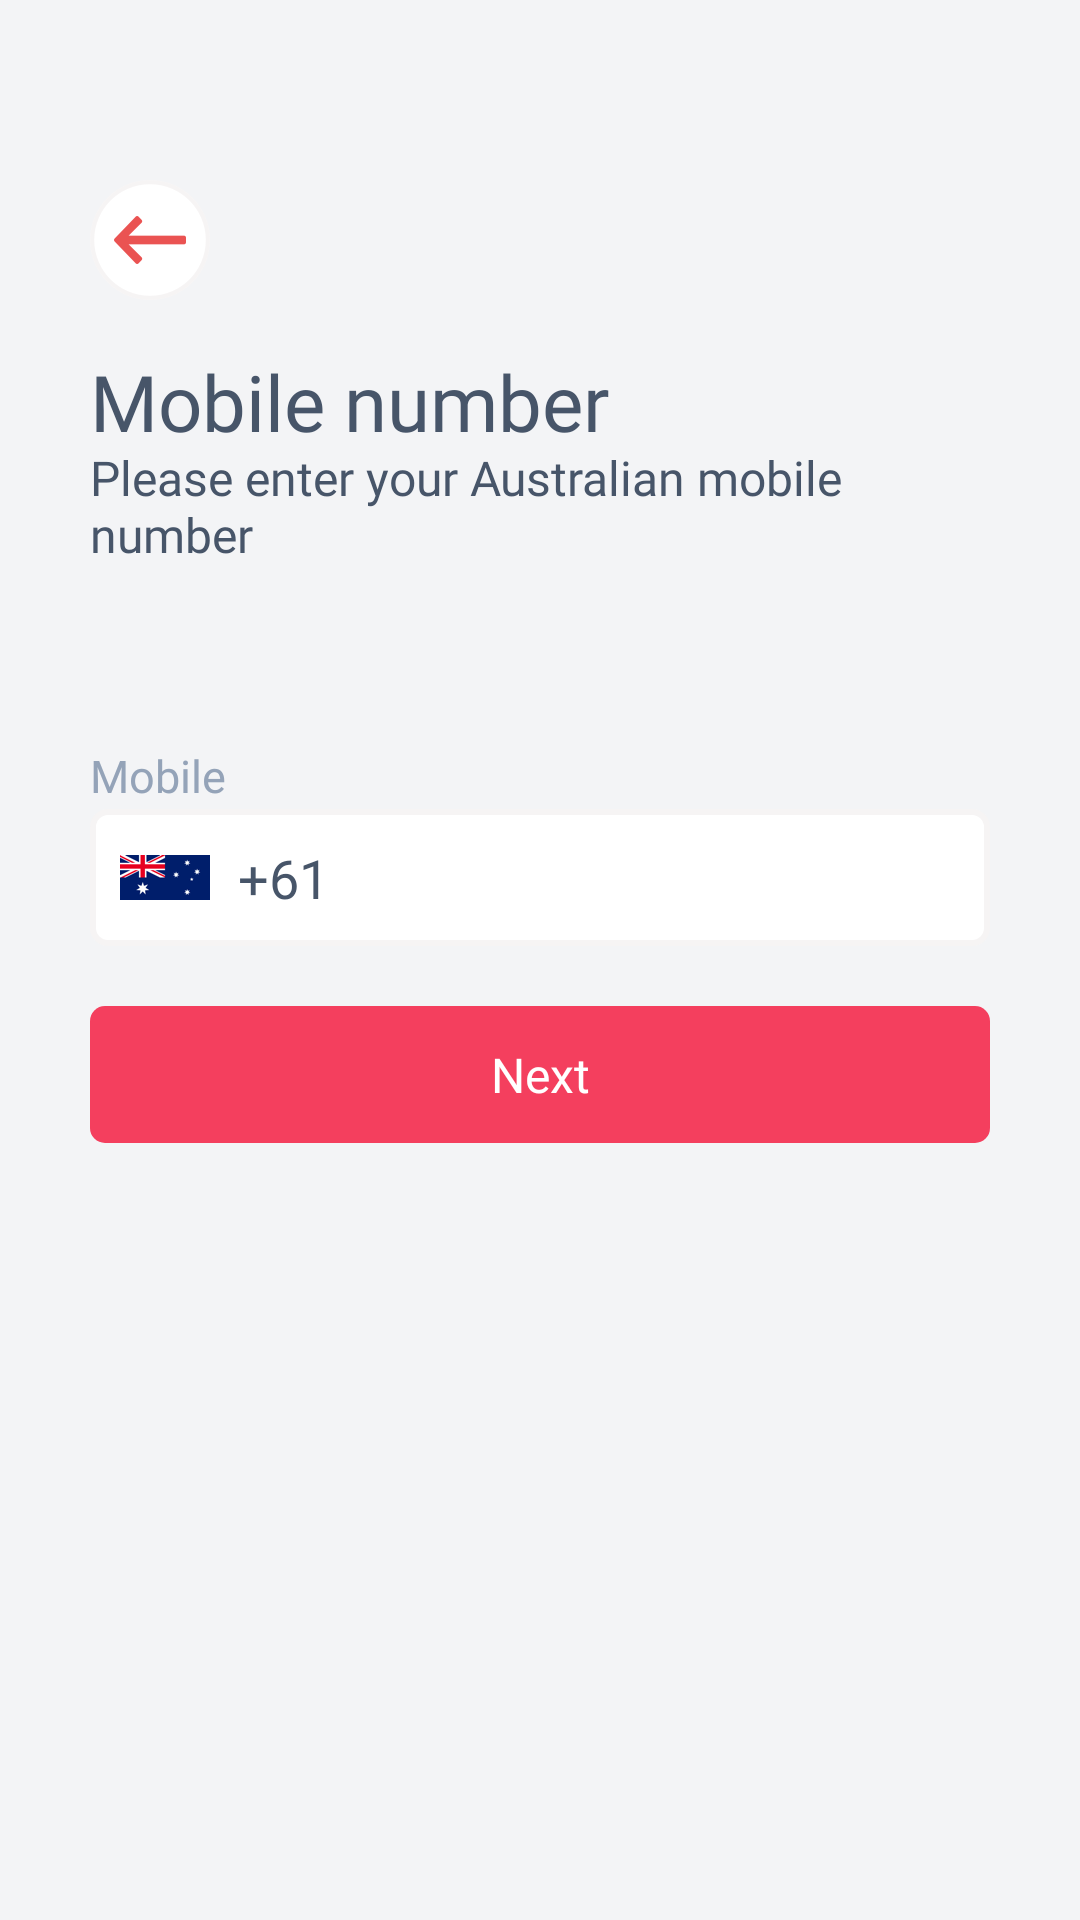

Icons on this 1080w x 1920h Android screen, each with its box as (x1, y1, x2, y2):
aus flag: (120, 855, 210, 900)
back: (94, 184, 206, 296)
